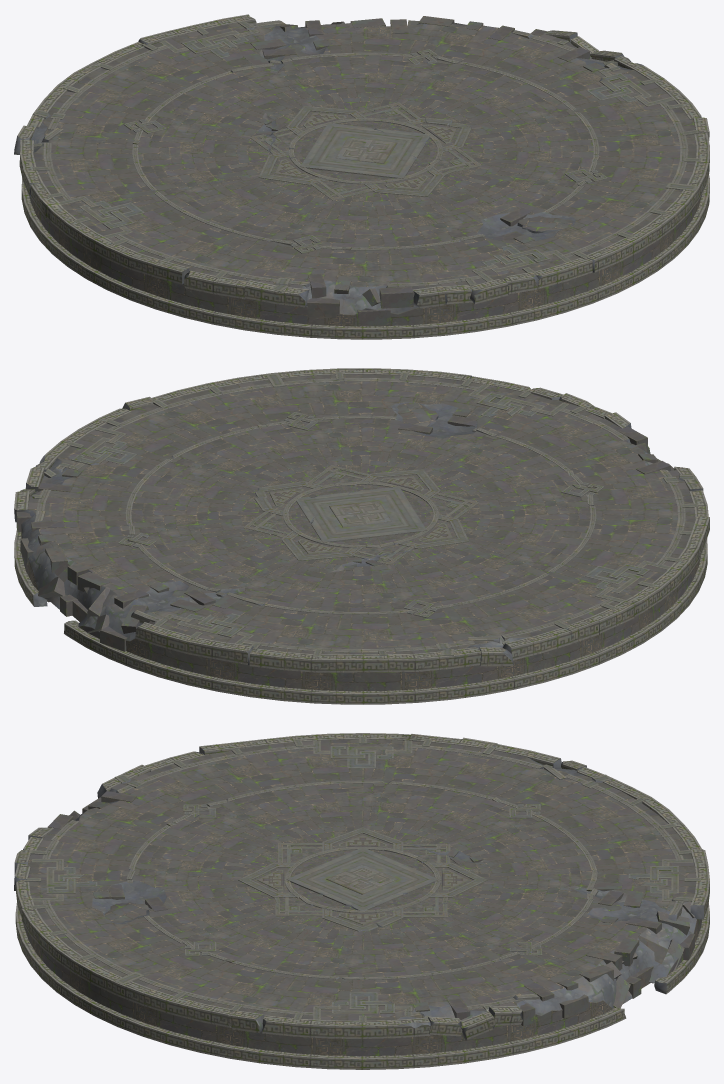
Rendered from Level_Fc_Plot_Platform_A_01_Lod0.fbx.
3 renders of one model, top to bottom at view 1: azimuth 30°, elevation 25°; view 2: azimuth 150°, elevation 25°; view 3: azimuth 270°, elevation 25°, orthographic.
Visible parts, largest first — view 1: Level_Fc_Plot_Platform_A_01_Lod0; view 2: Level_Fc_Plot_Platform_A_01_Lod0; view 3: Level_Fc_Plot_Platform_A_01_Lod0.
Boxes of the visible parts, x1=… form: Level_Fc_Plot_Platform_A_01_Lod0: x1=14, y1=14, x2=709, y2=339; Level_Fc_Plot_Platform_A_01_Lod0: x1=14, y1=368, x2=709, y2=704; Level_Fc_Plot_Platform_A_01_Lod0: x1=14, y1=733, x2=709, y2=1069.
Size of what is drawn, in the model's own units: 70.8 by 5.37 by 70.96.
Materials: 4 (4 with a texture image).
